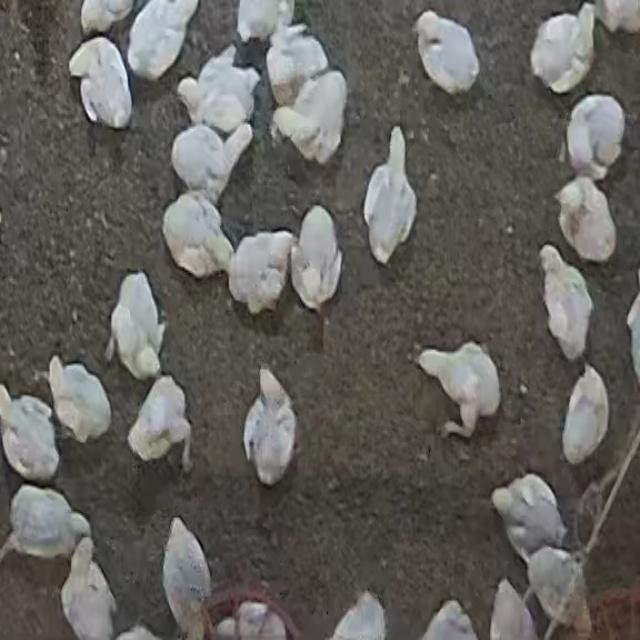chicken: (407, 336, 504, 434), (361, 122, 421, 267), (178, 46, 261, 136), (271, 70, 347, 167), (52, 539, 122, 640), (491, 474, 567, 566), (170, 122, 251, 206), (4, 484, 90, 562), (162, 194, 236, 282), (128, 374, 192, 472), (539, 248, 593, 364), (107, 271, 165, 378), (244, 367, 297, 484), (0, 381, 60, 484), (124, 0, 200, 81), (158, 511, 216, 617), (68, 35, 132, 129), (227, 230, 296, 316), (292, 205, 342, 323), (530, 5, 596, 94), (48, 356, 111, 446), (413, 10, 479, 94), (564, 95, 625, 181), (556, 176, 615, 263), (561, 364, 611, 466)
